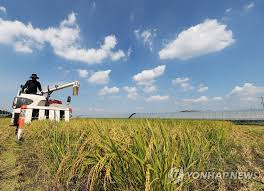field: (3, 119, 264, 191)
sky: (3, 4, 263, 87)
